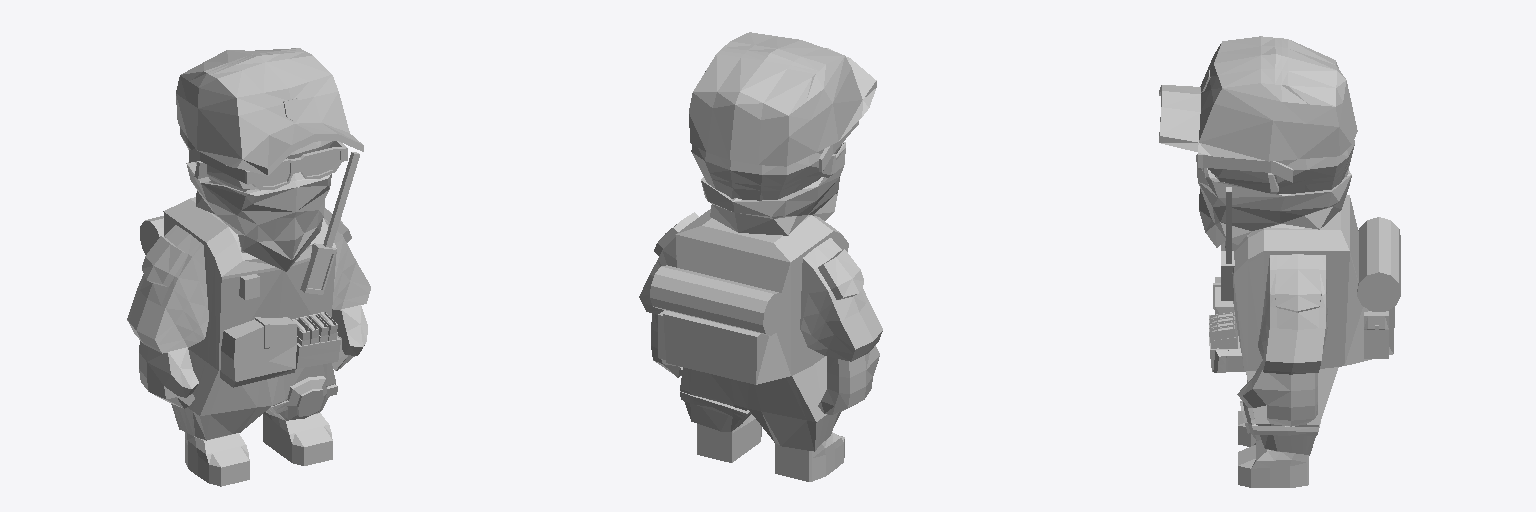
The model's file is joe.obj.
The picture shows the model from 3 angles: view 1: azimuth 30°, elevation 25°; view 2: azimuth 150°, elevation 25°; view 3: azimuth 270°, elevation 25°; orthographic projection.
Size of the model in its own units: 0.4715 by 0.8055 by 0.4387.